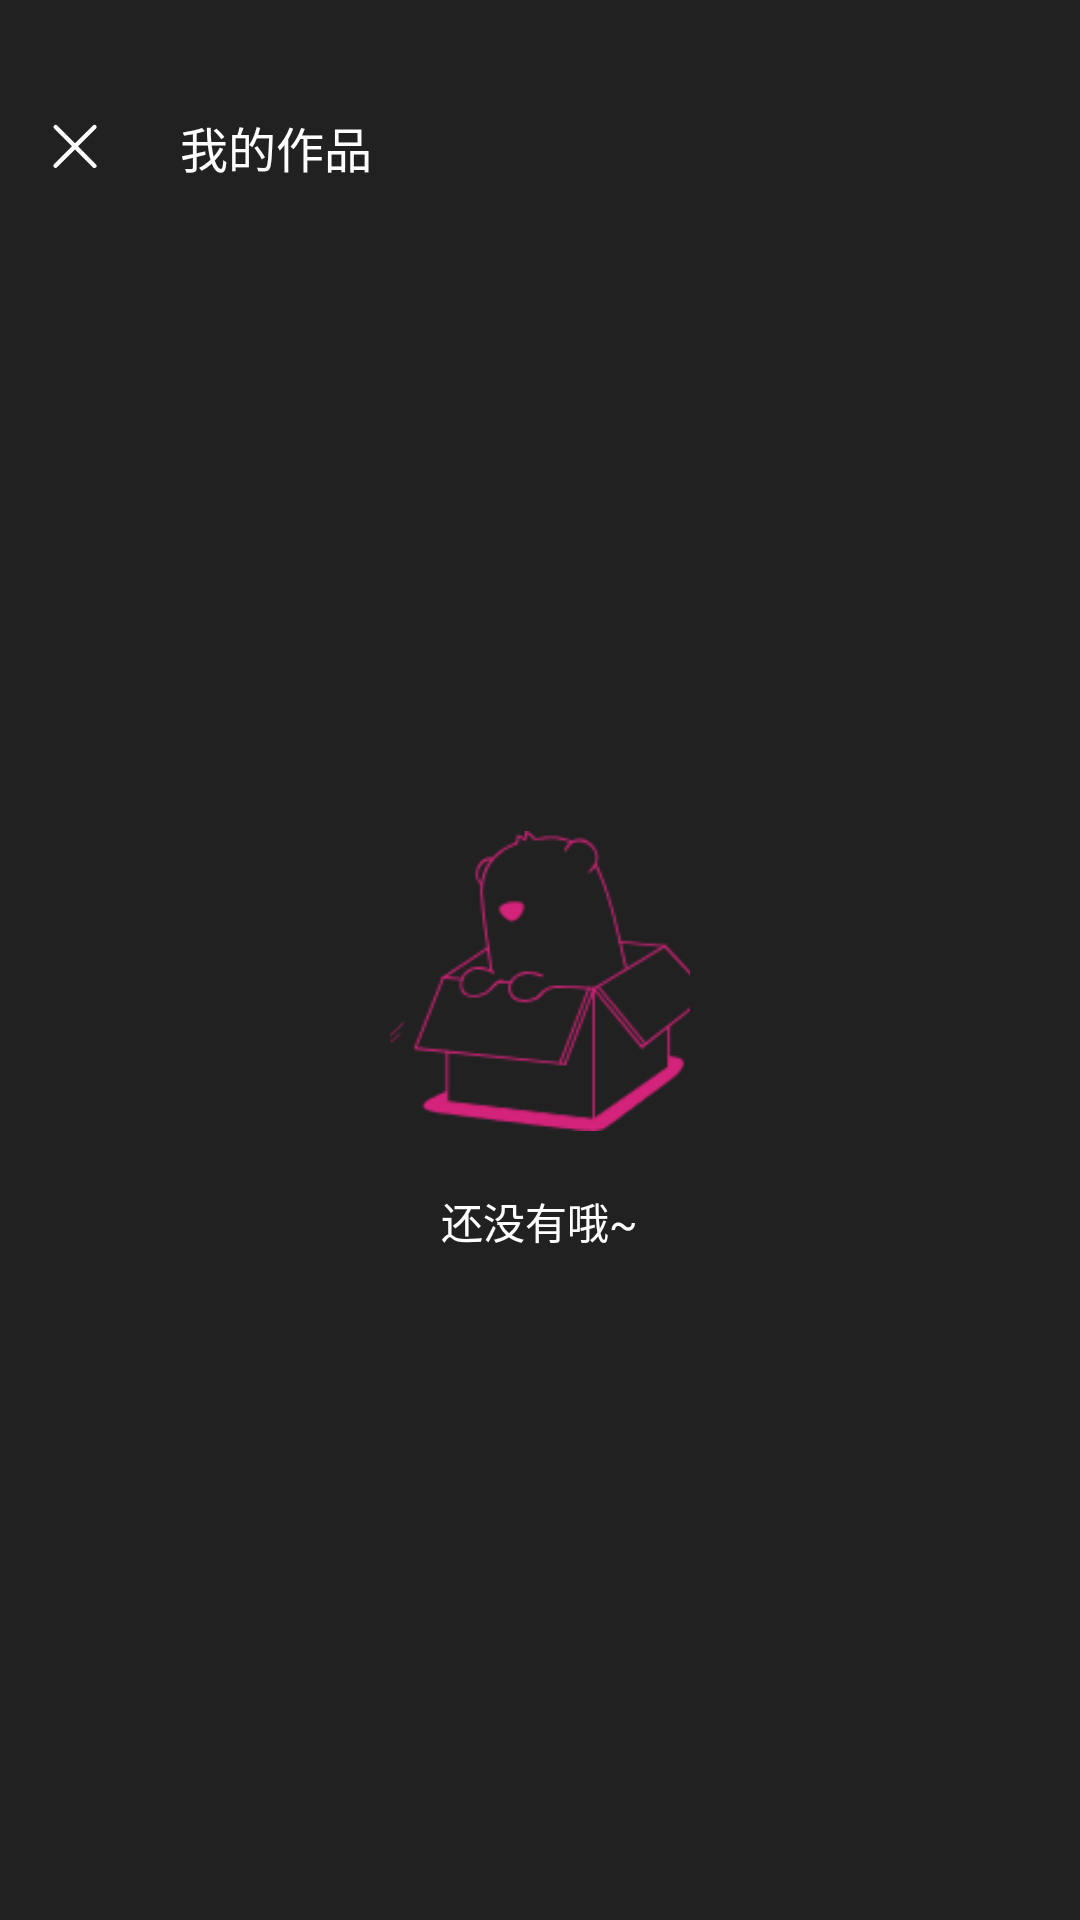

Locate icon controls on the screen. Image size 1080w x 1920h, boxes as [x1,y1,x2,y2].
close: [53,124,97,168]
